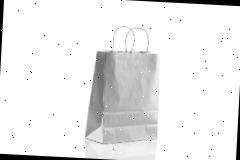paper: (84, 24, 162, 146)
